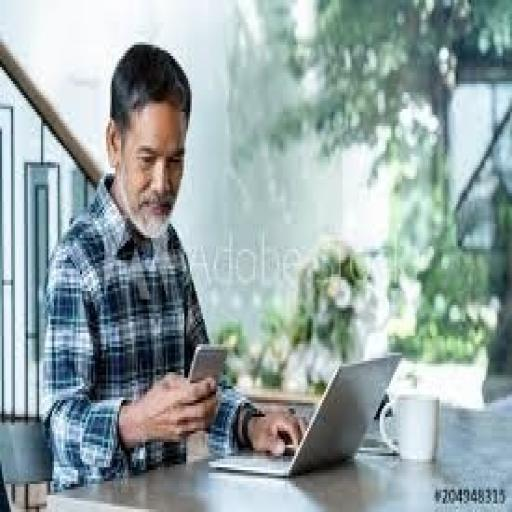texting: (37, 40, 307, 492)
